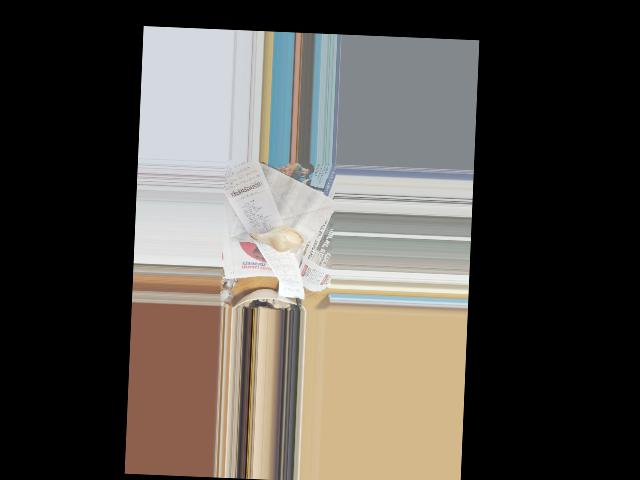onion: (255, 224, 303, 252)
